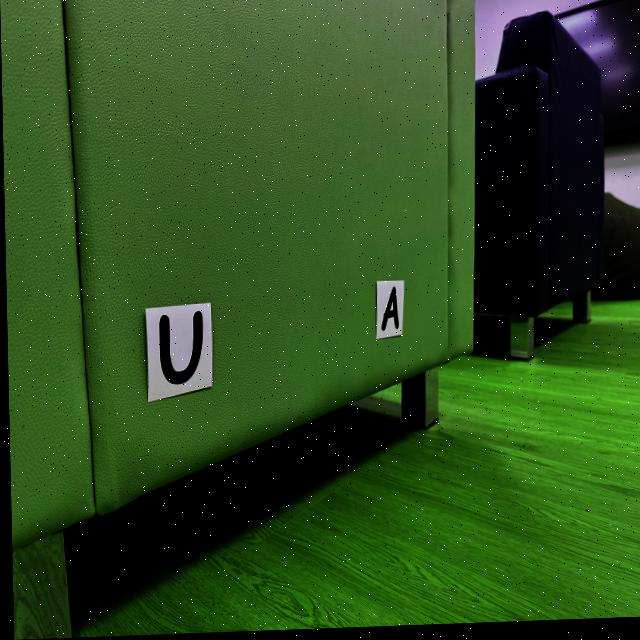A: (380, 290, 397, 334)
U: (158, 313, 201, 385)
